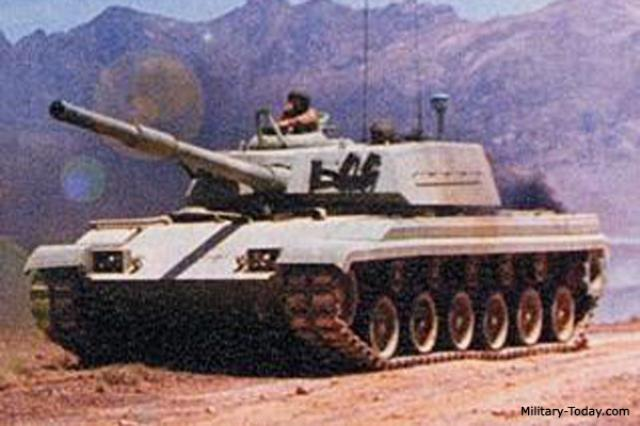other: (272, 78, 316, 129)
tank: (45, 139, 603, 357)
